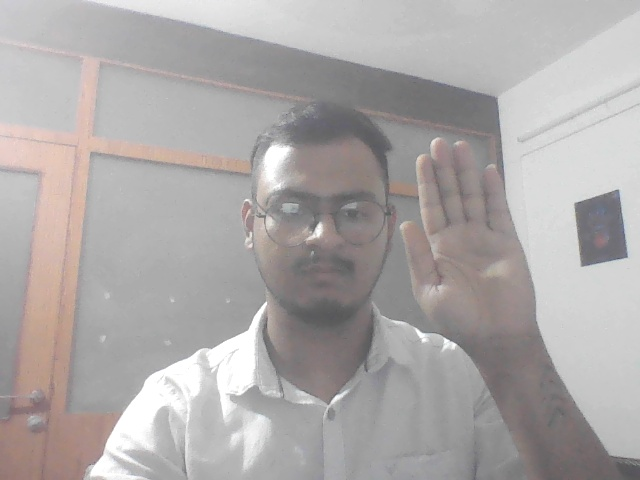Hello: (398, 134, 543, 358)
